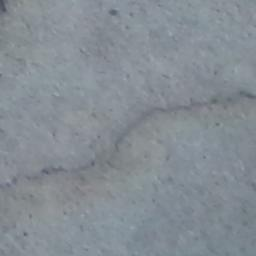Hairline-Crack: (0, 86, 256, 204)
